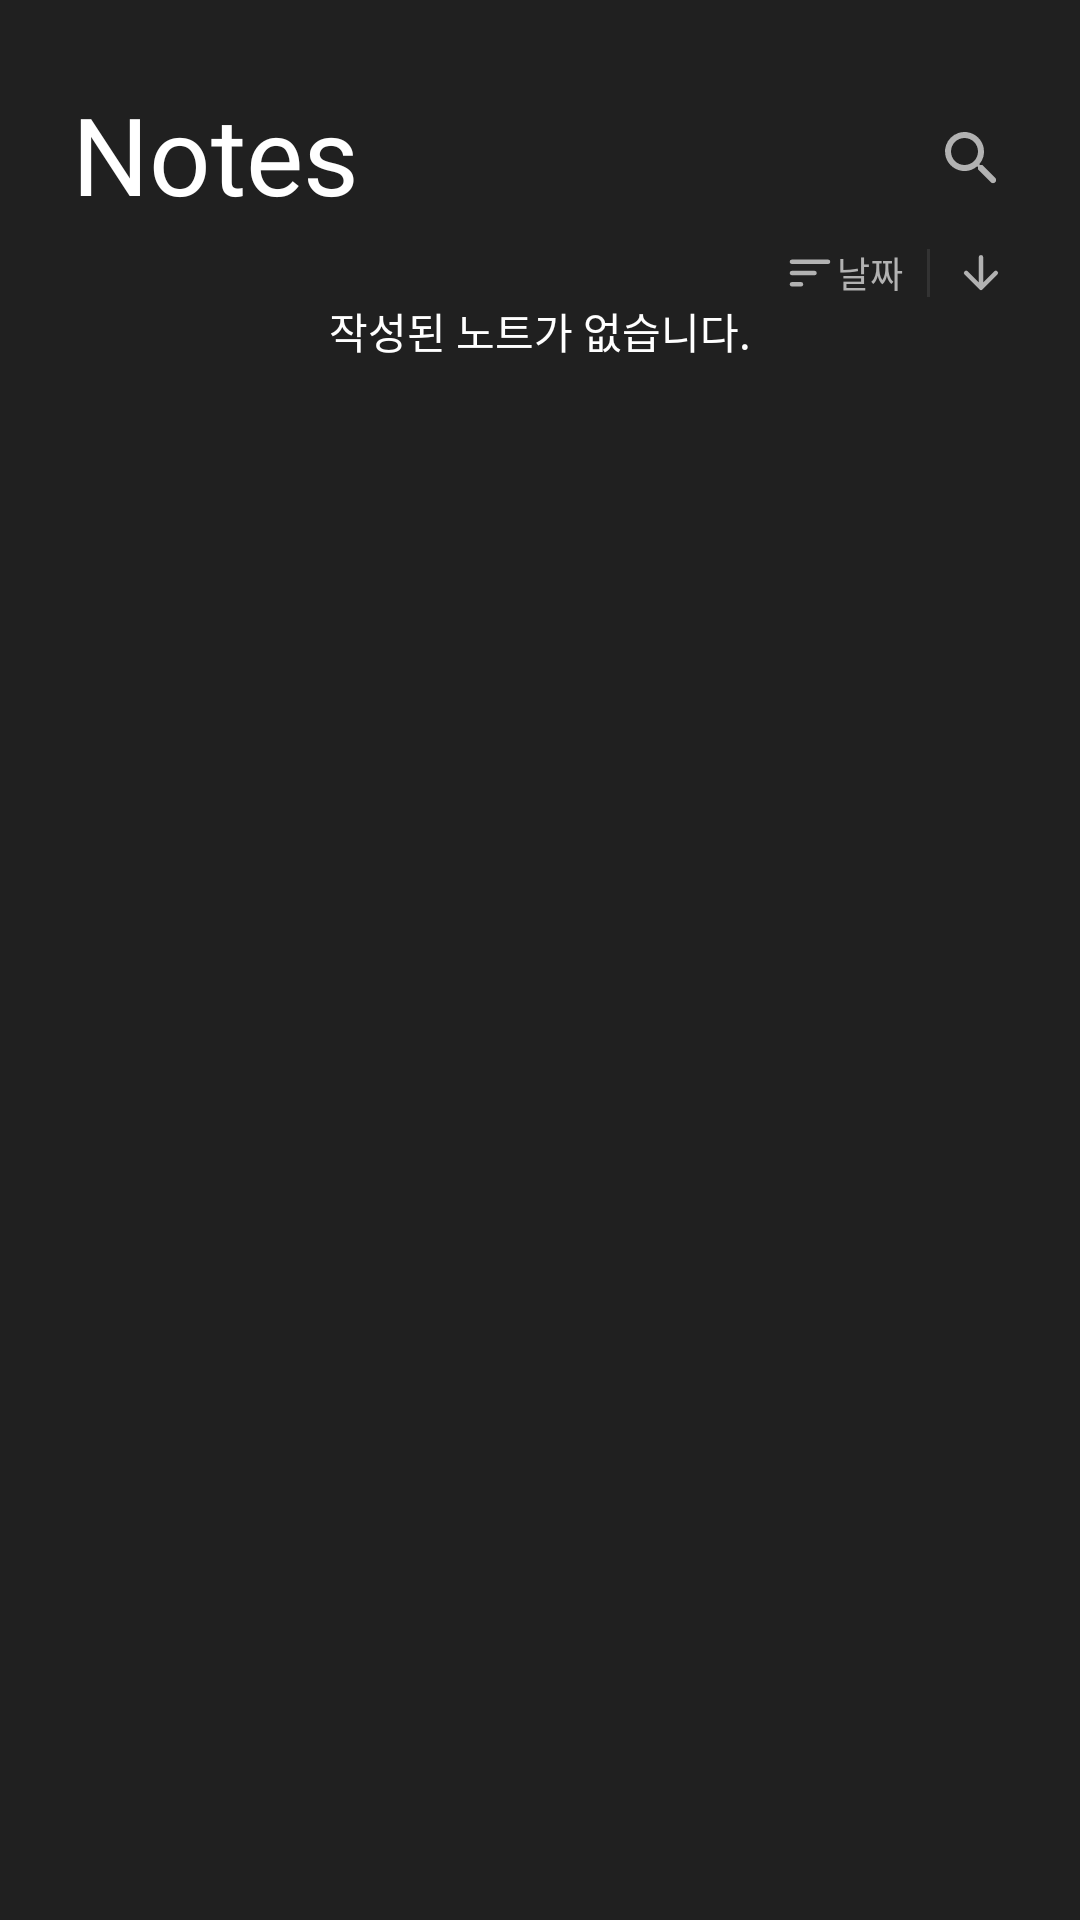

Icons on this 1080w x 1920h Android screen, each with its box as [x1,y1,x2,y2]:
down: [964,255,998,290]
search: [945,132,996,183]
